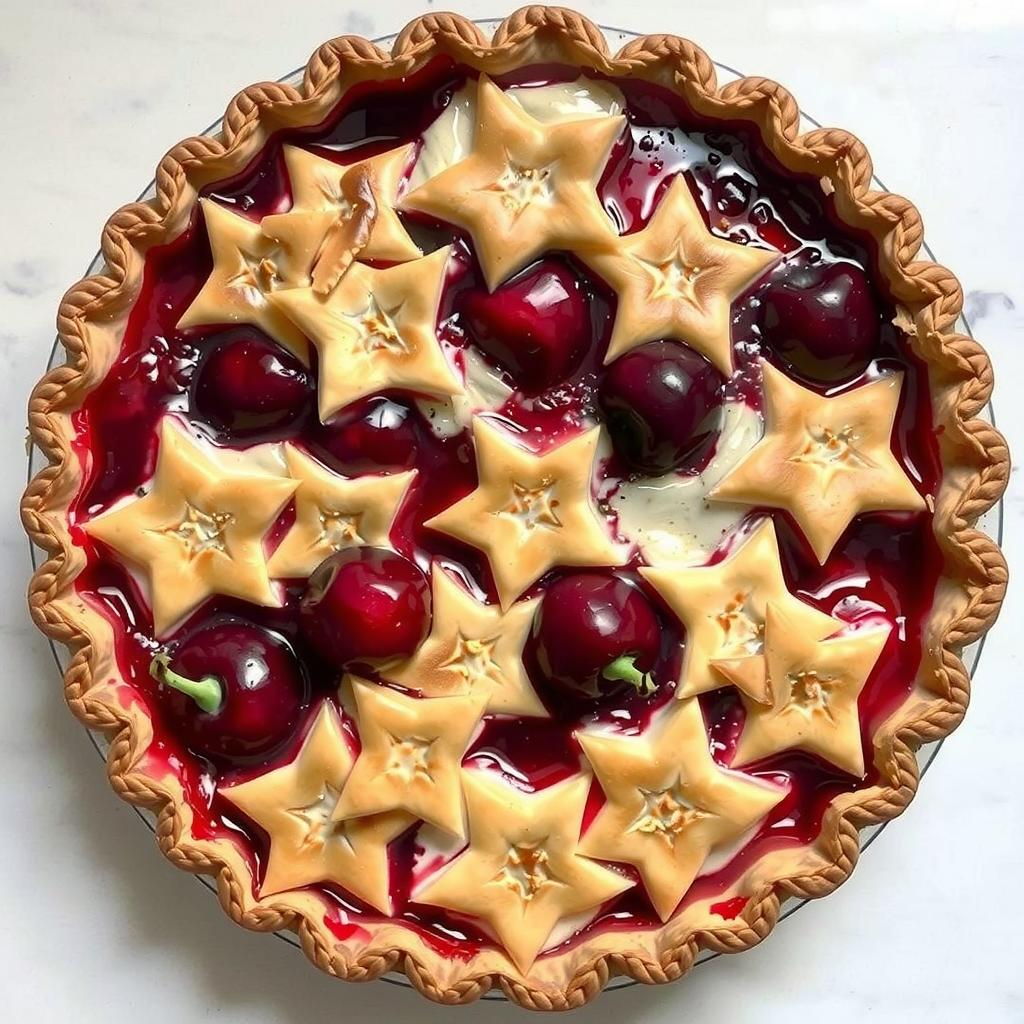pie: (14, 6, 1016, 1024)
